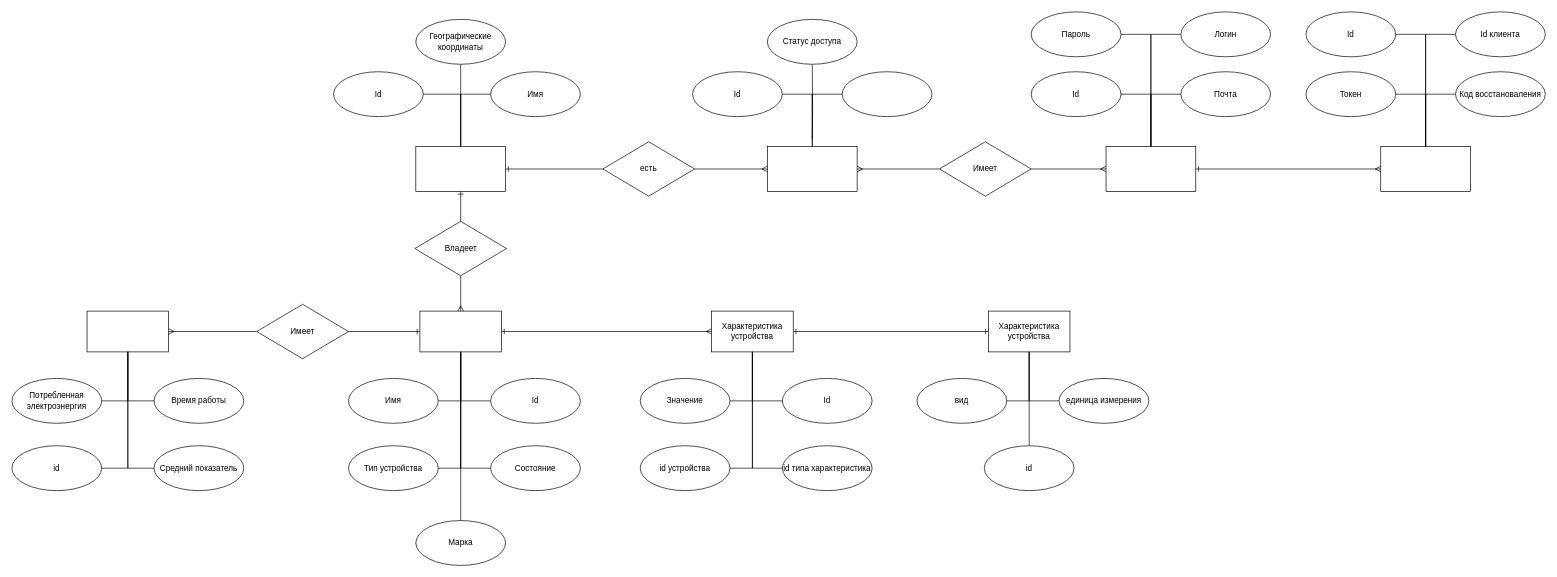
This 1557x577 diagram has some shape labels left out. Here are the shapes that lost their labels. From the top down, the centre of each, then its label:
(887,94): Уровень доступа
(460,168): Дом
(812,168): Привилегии доступа
(1150,168): Пользователь
(1425,168): Восстановление пароля
(127,331): История работы устройства
(460,331): Устройство
